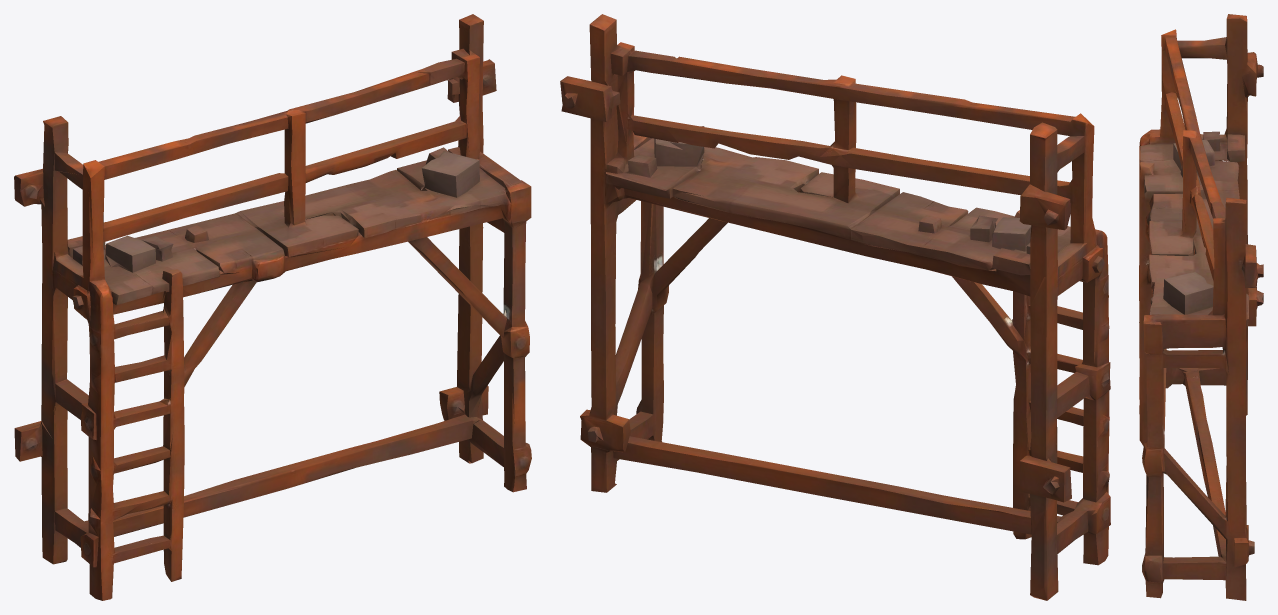
Rendered from ladder_frame.glb.
3 renders of one model, left to right at view 1: azimuth 30°, elevation 25°; view 2: azimuth 150°, elevation 25°; view 3: azimuth 270°, elevation 25°, orthographic. The views are drawn at different scales.
Parts seen in each view (by area): view 1: body; view 2: body; view 3: body.
Boxes of the visible parts, <box> form: body: <box>14,14,531,600</box>; body: <box>560,14,1110,600</box>; body: <box>1139,14,1263,600</box>.
Bounding box in the file's own units: 2.26 × 2 × 0.5643.
1 material, 1 textured.
